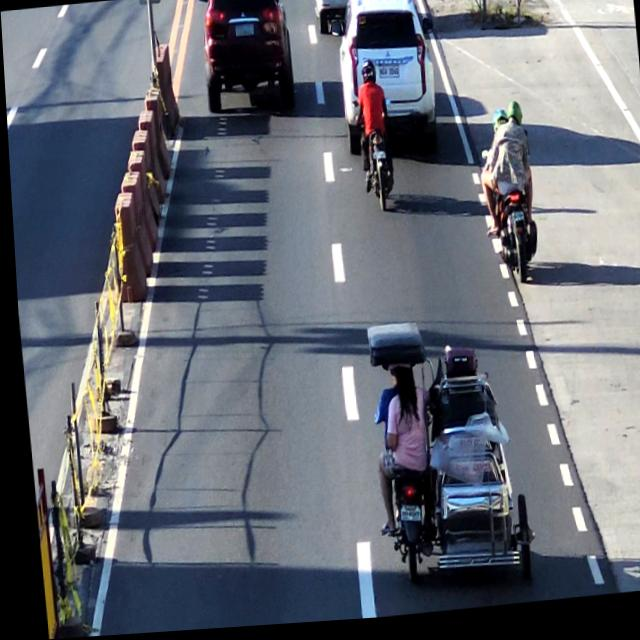Car: (331, 0, 440, 143), (193, 0, 299, 121)
License-Plate: (392, 507, 415, 530), (377, 67, 400, 86), (233, 25, 254, 41), (368, 153, 385, 167), (507, 216, 522, 229)
Motorcycle: (482, 105, 542, 295), (348, 63, 393, 216)
Tricycle: (358, 313, 528, 604)
